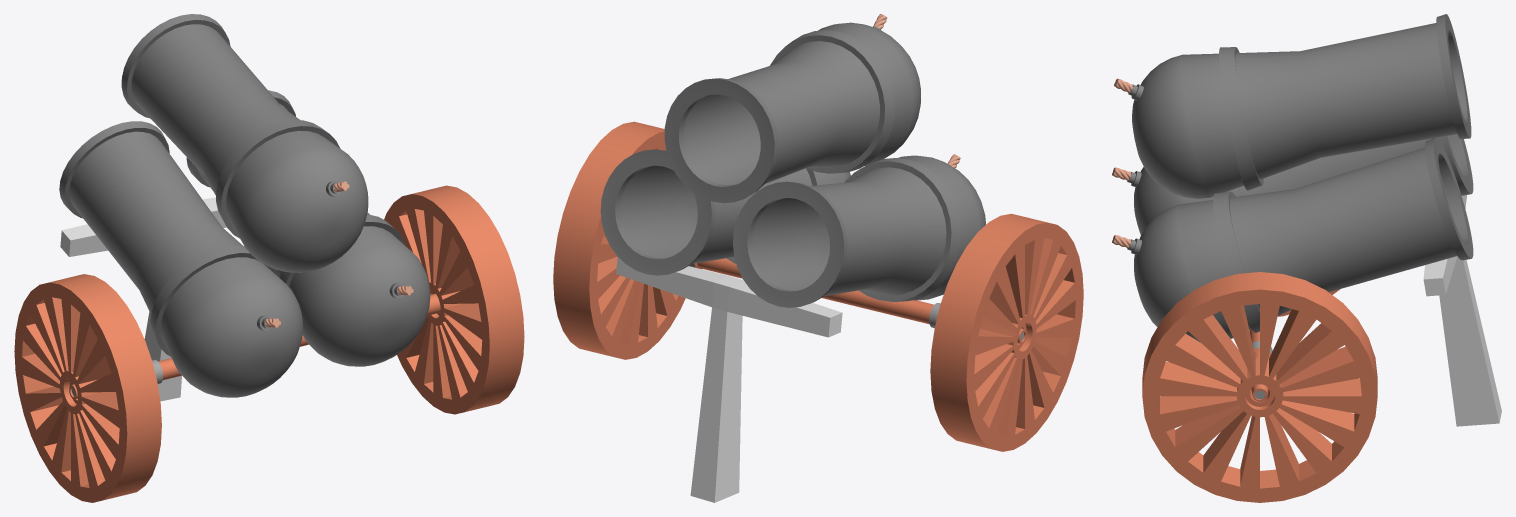
The model's file is TripleCannon.fbx.
3 renders of one model, left to right at view 1: azimuth 30°, elevation 25°; view 2: azimuth 150°, elevation 25°; view 3: azimuth 270°, elevation 25°, orthographic. The views are drawn at different scales.
Visible parts, largest first — view 1: Cylinder, Cylinder.004, Cylinder.006, Cylinder.001, Cube; view 2: Cylinder, Cylinder.006, Cylinder.004, Cube, Cylinder.001; view 3: Cylinder, Cylinder.006, Cylinder.001, Cube, Cylinder.004.
Boxes of the visible parts, bbox=[...] form: Cylinder: bbox=[14, 185, 524, 502]; Cylinder.004: bbox=[59, 121, 302, 397]; Cylinder.006: bbox=[121, 14, 368, 272]; Cylinder.001: bbox=[186, 90, 430, 366]; Cube: bbox=[60, 197, 226, 401]; Cylinder: bbox=[553, 121, 1083, 451]; Cylinder.006: bbox=[664, 22, 920, 203]; Cylinder.004: bbox=[733, 155, 985, 307]; Cube: bbox=[616, 257, 842, 502]; Cylinder.001: bbox=[600, 149, 850, 275]; Cylinder: bbox=[1142, 272, 1377, 502]; Cylinder.006: bbox=[1132, 14, 1471, 198]; Cylinder.001: bbox=[1134, 137, 1473, 342]; Cube: bbox=[1423, 195, 1501, 426]; Cylinder.004: bbox=[1134, 134, 1473, 234].
Bounding box in the file's own units: 187 × 174 × 152.
